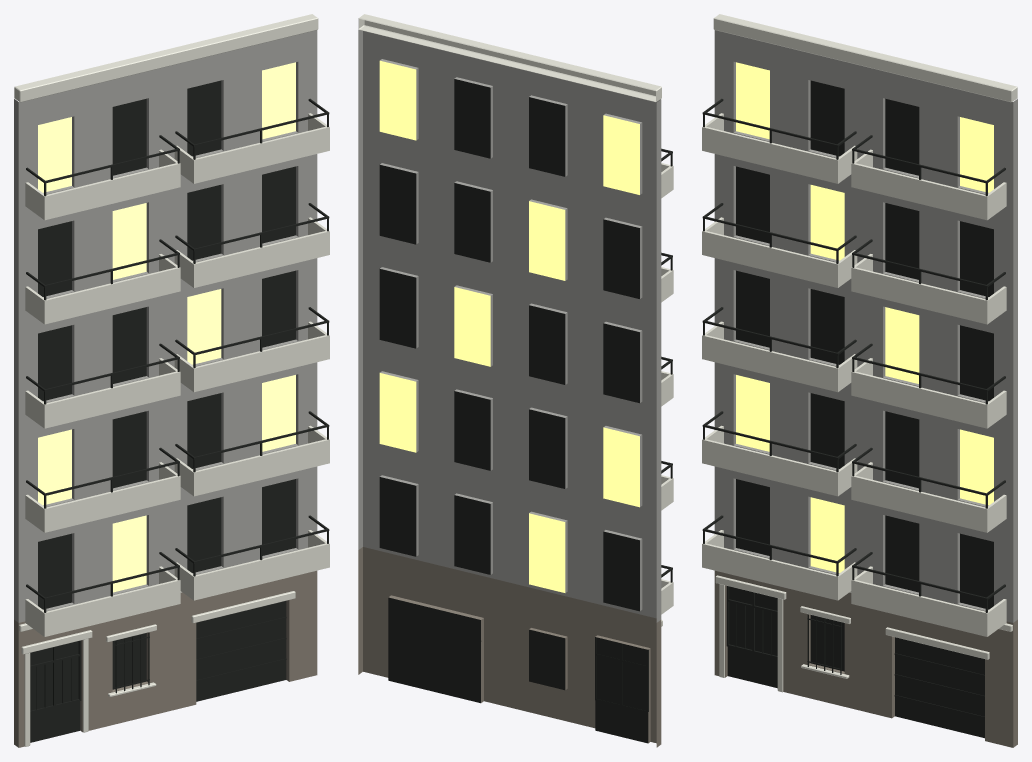
File: fachada_edificio.glb
3 views of the same model, side by side, from view 1: azimuth 30°, elevation 25°; view 2: azimuth 150°, elevation 25°; view 3: azimuth 330°, elevation 25° (orthographic).
Parts seen in each view (by area): view 1: pieza_ventanas_oscuras, pieza_piso_5, pieza_planta_baja, pieza_piso_1, pieza_piso_3, pieza_piso_2, pieza_piso_4, pieza_ventanas_luz, pieza_cornisa; view 2: pieza_ventanas_oscuras, pieza_planta_baja, pieza_piso_2, pieza_piso_1, pieza_piso_3, pieza_piso_4, pieza_piso_5, pieza_ventanas_luz, pieza_cornisa; view 3: pieza_ventanas_oscuras, pieza_piso_5, pieza_planta_baja, pieza_piso_1, pieza_piso_3, pieza_piso_2, pieza_piso_4, pieza_ventanas_luz, pieza_cornisa.
Part boxes in pixels (left/top/right/bottom): pieza_ventanas_oscuras: left=30, top=80, right=295, bottom=710; pieza_piso_5: left=14, top=30, right=329, bottom=220; pieza_planta_baja: left=14, top=570, right=317, bottom=747; pieza_piso_1: left=14, top=466, right=329, bottom=636; pieza_piso_3: left=14, top=258, right=329, bottom=428; pieza_piso_2: left=14, top=362, right=329, bottom=532; pieza_piso_4: left=14, top=154, right=329, bottom=324; pieza_ventanas_luz: left=38, top=62, right=295, bottom=592; pieza_cornisa: left=14, top=14, right=318, bottom=102; pieza_ventanas_oscuras: left=379, top=79, right=646, bottom=710; pieza_planta_baja: left=358, top=547, right=662, bottom=747; pieza_piso_2: left=358, top=339, right=673, bottom=518; pieza_piso_1: left=358, top=443, right=673, bottom=622; pieza_piso_3: left=358, top=234, right=673, bottom=414; pieza_piso_4: left=358, top=130, right=673, bottom=310; pieza_piso_5: left=358, top=29, right=673, bottom=206; pieza_ventanas_luz: left=379, top=60, right=639, bottom=592; pieza_cornisa: left=358, top=14, right=661, bottom=102; pieza_ventanas_oscuras: left=729, top=80, right=993, bottom=671; pieza_piso_5: left=702, top=30, right=1017, bottom=220; pieza_planta_baja: left=714, top=570, right=1017, bottom=747; pieza_piso_1: left=702, top=466, right=1017, bottom=636; pieza_piso_3: left=702, top=258, right=1017, bottom=428; pieza_piso_2: left=702, top=362, right=1017, bottom=532; pieza_piso_4: left=702, top=154, right=1017, bottom=324; pieza_ventanas_luz: left=736, top=62, right=993, bottom=572; pieza_cornisa: left=713, top=14, right=1017, bottom=102.
Size of what is drawn, in the model's own units: 9 by 18.95 by 1.25.
